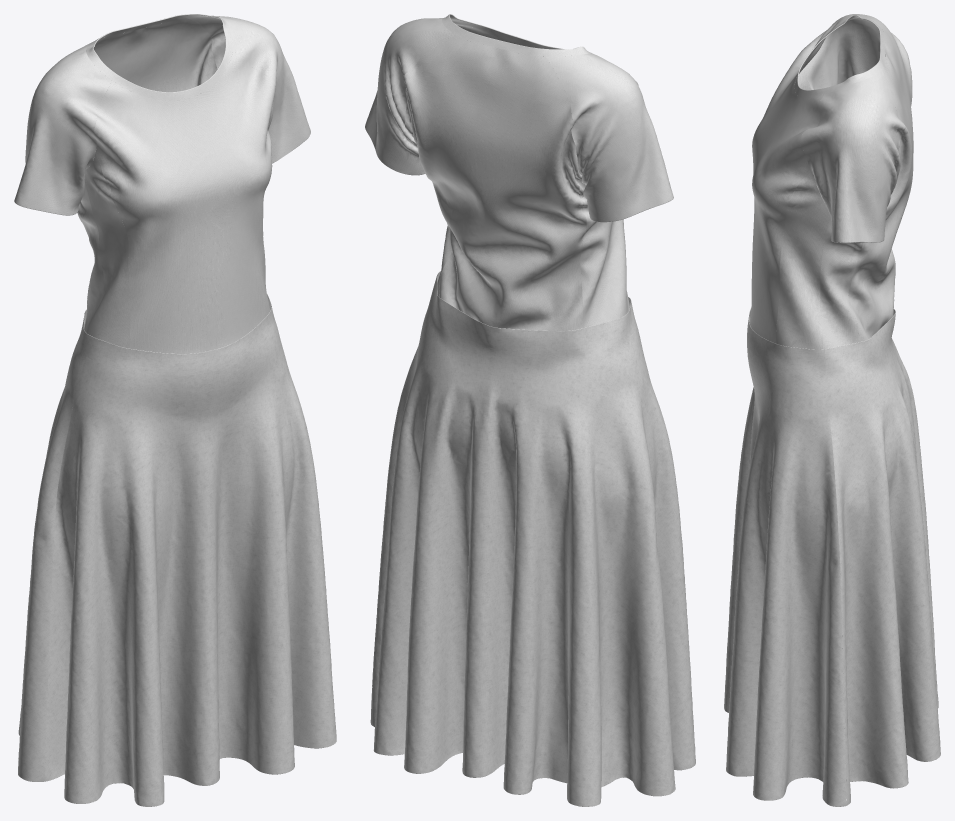
The picture shows the model from 3 angles, left to right: view 1: azimuth 30°, elevation 25°; view 2: azimuth 150°, elevation 25°; view 3: azimuth 270°, elevation 25°; orthographic projection. The views are drawn at different scales.
Visible parts, largest first — view 1: 6, 3 (×2), 4, 5, 2; view 2: 5, 2, 4, 6, 3; view 3: 6, 5, 4, 3 (×2), 2.
Part boxes in pixels (x1=…): 6: x1=44, y1=323, x2=336, y2=806; 3 (×2): x1=77, y1=51, x2=275, y2=375; 4: x1=14, y1=14, x2=310, y2=348; 5: x1=18, y1=343, x2=86, y2=781; 2: x1=83, y1=18, x2=217, y2=328; 5: x1=370, y1=301, x2=675, y2=806; 2: x1=403, y1=35, x2=586, y2=330; 4: x1=365, y1=14, x2=673, y2=328; 6: x1=371, y1=324, x2=695, y2=770; 3: x1=430, y1=271, x2=636, y2=354; 6: x1=724, y1=343, x2=846, y2=806; 5: x1=826, y1=336, x2=940, y2=805; 4: x1=776, y1=14, x2=905, y2=349; 3 (×2): x1=747, y1=38, x2=895, y2=371; 2: x1=848, y1=29, x2=913, y2=341.
Bounding box in the file's own units: 48.24 × 111 × 31.42.
6 materials, 6 textured.
